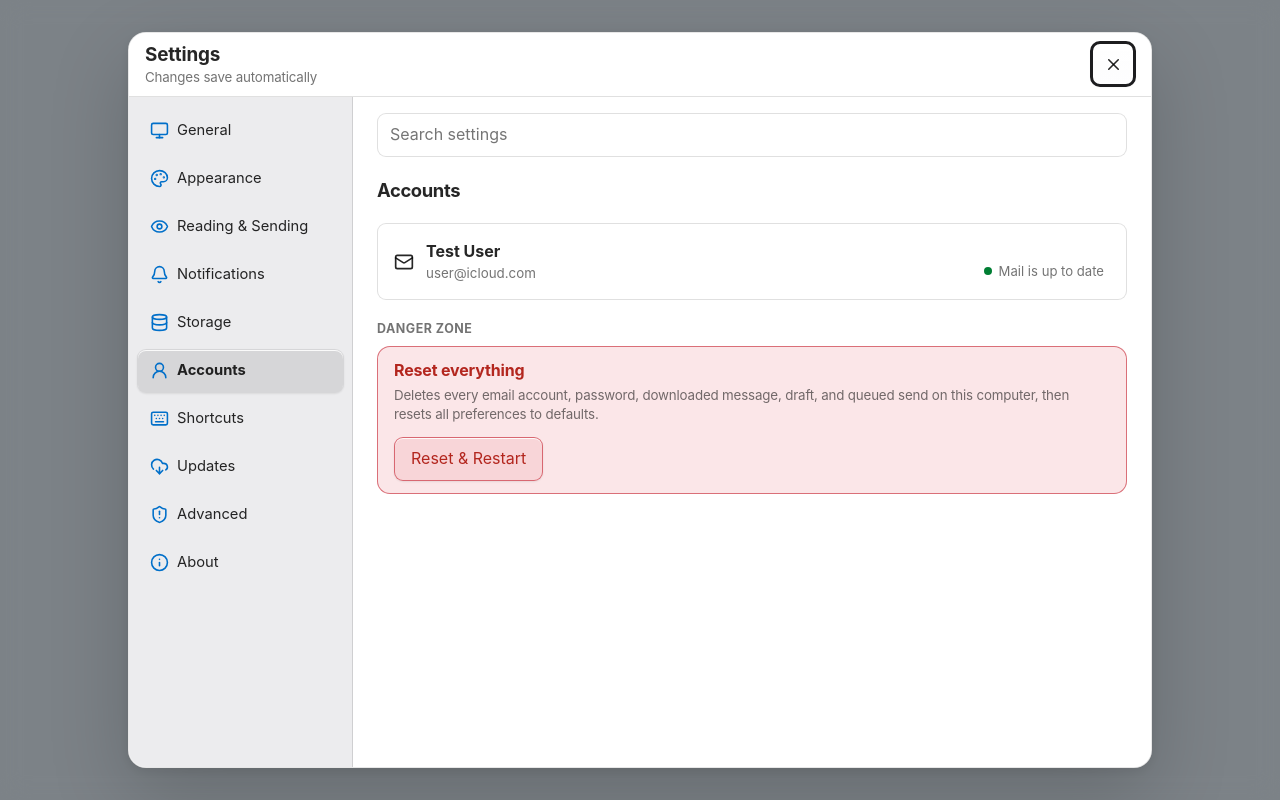
Test: SettingsDialog component › saves how much mail one account keeps
The width and height of the screenshot is (1280, 800).
Step 1. Click the button with aria-label "Manage Test User" → [463, 251], box x1=377 y1=223 x2=1127 y2=300
(page scrolled)
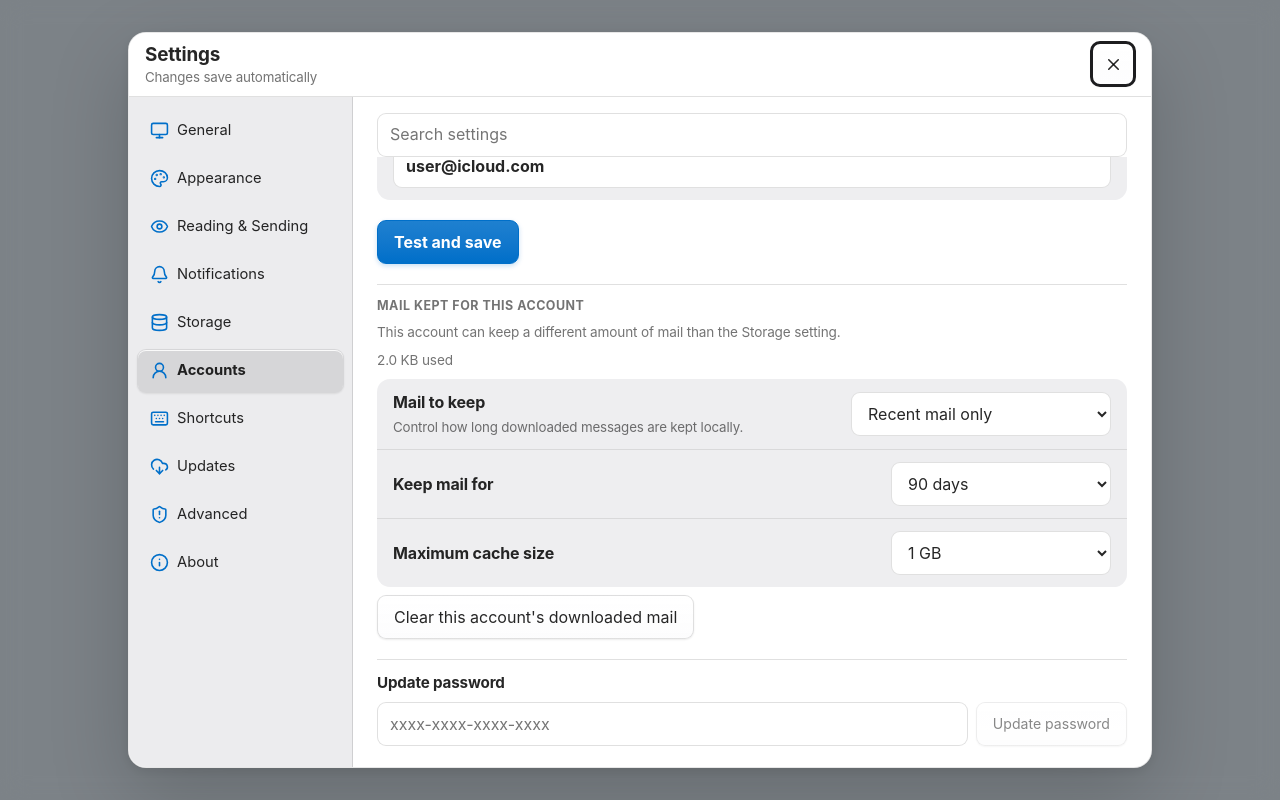
Step 2. Select "30 days" in the dropdown labelled "Keep mail for" → [1001, 484], box x1=891 y1=462 x2=1111 y2=506
(page scrolled)
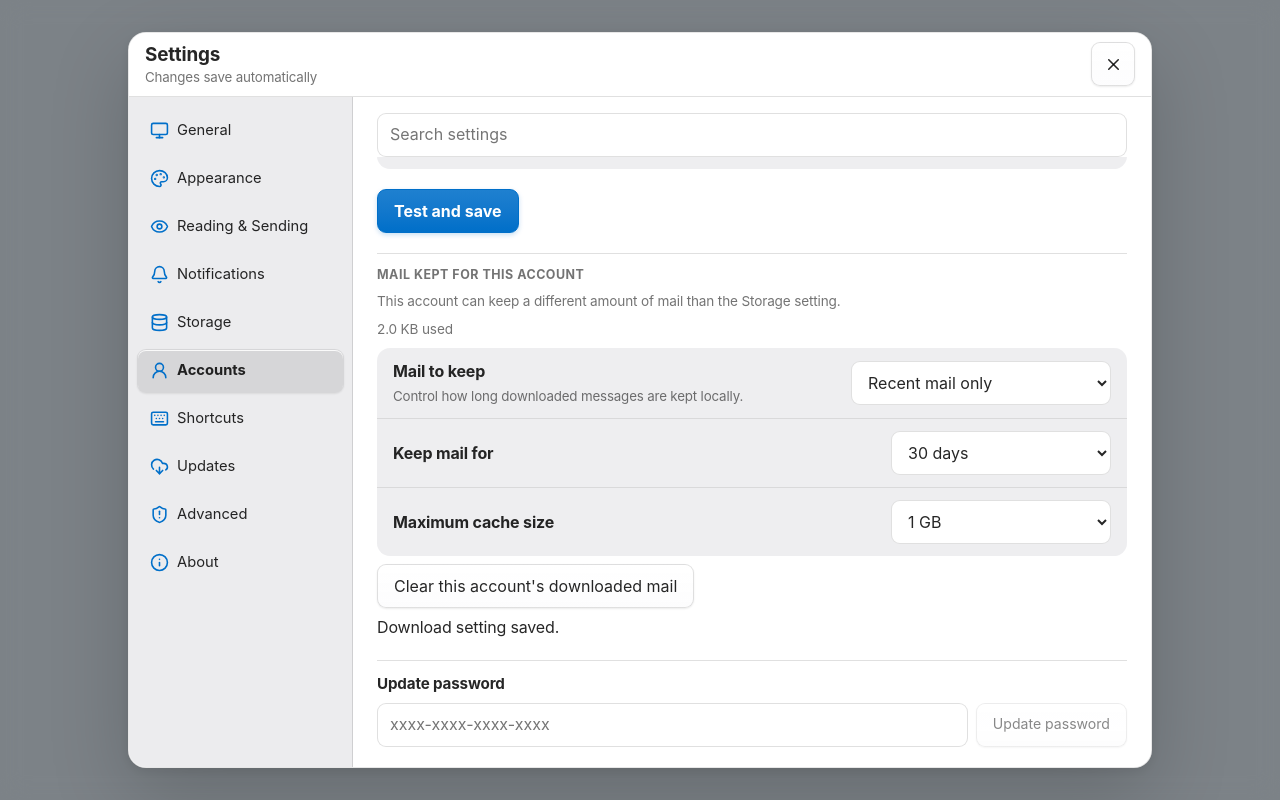
Expected: the message reads "Download setting saved.", x1=377 y1=617 x2=559 y2=637
